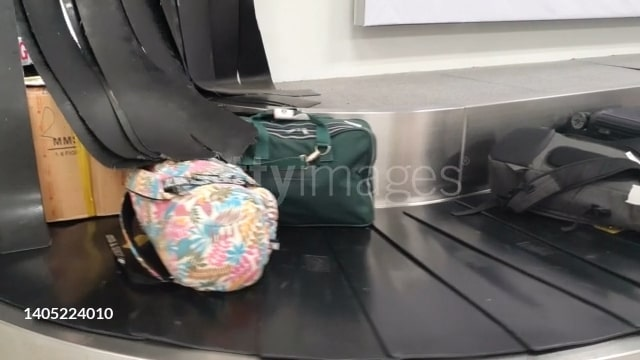baggage: (128, 155, 281, 299), (234, 110, 396, 228), (481, 125, 640, 235)
